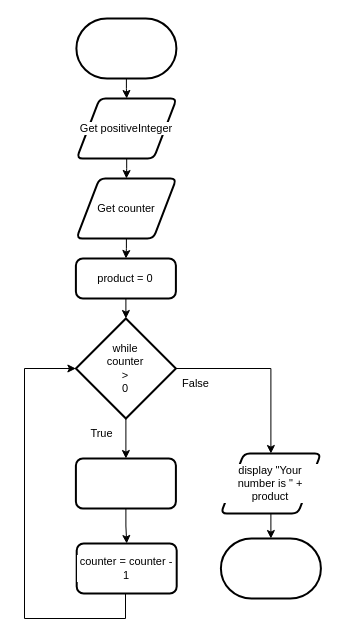
The diagram is 339 pixels wide and 644 high, and some of its shapes have lost their labels. The shapes that lost their labels are listed below. From the top down, each one's centre as x and y in pixels, then its label:
the point at 126,48: Start
the point at 125,483: product = product + number
the point at 270,568: Stop
